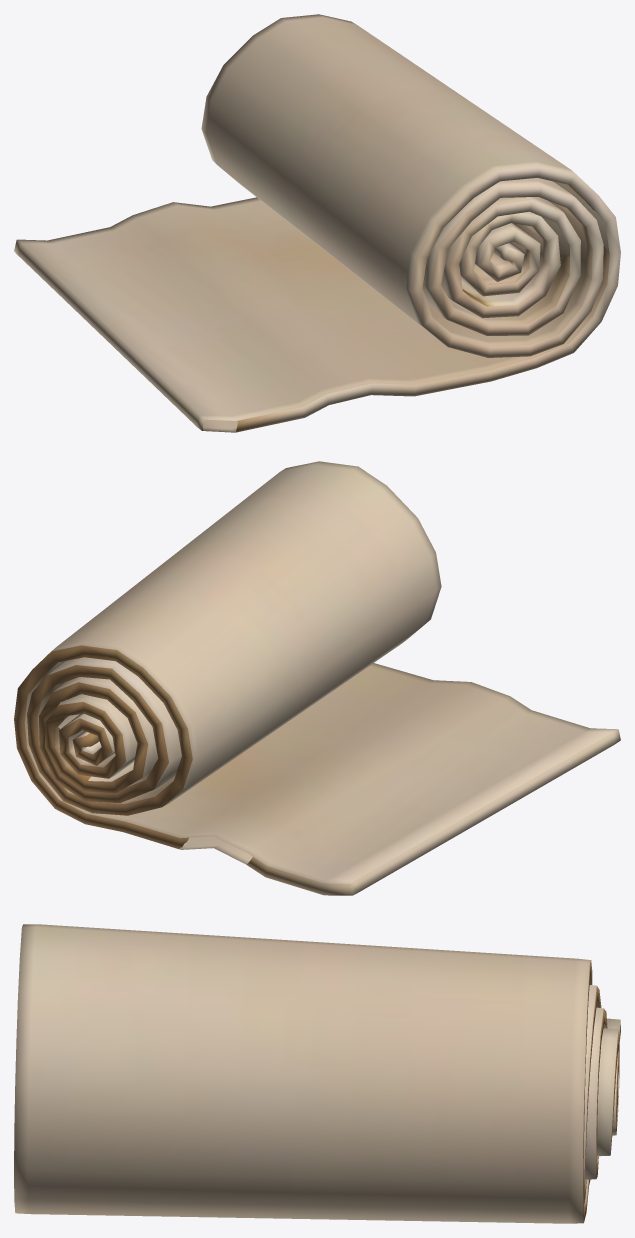
3 views of the same model, one above another, from view 1: azimuth 30°, elevation 25°; view 2: azimuth 150°, elevation 25°; view 3: azimuth 270°, elevation 25° (orthographic). The views are drawn at different scales.
Parts seen in each view (by area): view 1: SM_Cloth_Wool_01_LOD0; view 2: SM_Cloth_Wool_01_LOD0; view 3: SM_Cloth_Wool_01_LOD0.
Boxes of the visible parts, <box> form: SM_Cloth_Wool_01_LOD0: <box>14,14,620,432</box>; SM_Cloth_Wool_01_LOD0: <box>14,461,620,895</box>; SM_Cloth_Wool_01_LOD0: <box>14,924,620,1223</box>.
Bounding box in the file's own units: 0.509 × 0.2526 × 0.5383.
1 material, 1 textured.
